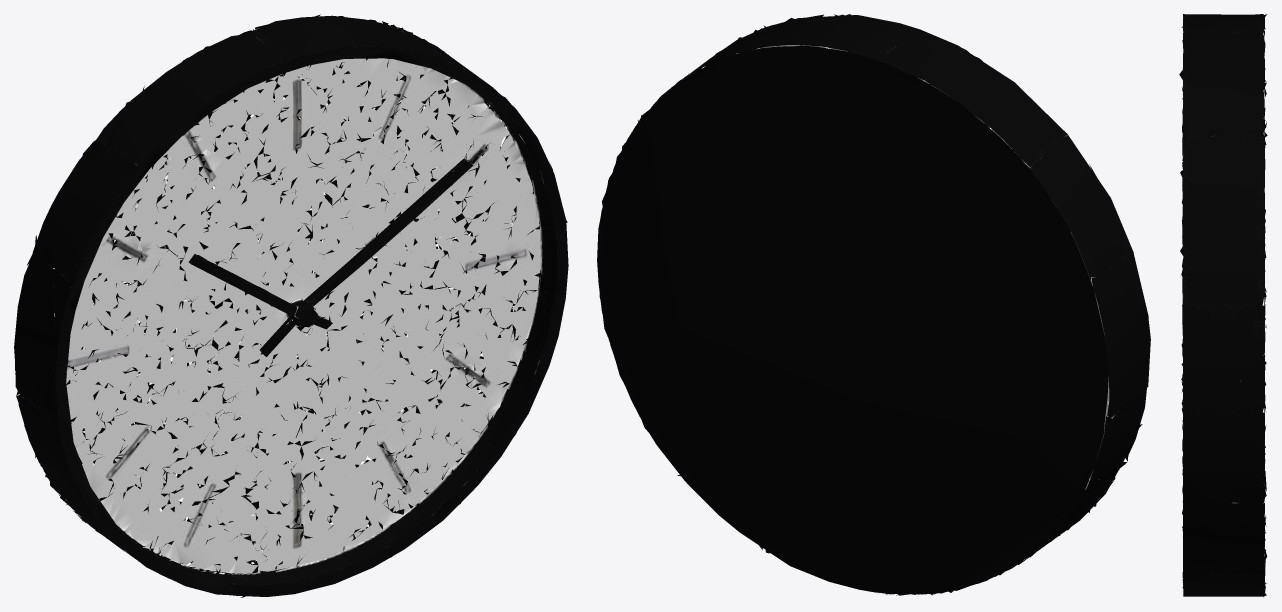
The model's file is wall-clock.glb.
The picture shows the model from 3 angles, left to right: view 1: azimuth 30°, elevation 25°; view 2: azimuth 150°, elevation 25°; view 3: azimuth 270°, elevation 25°; orthographic projection.
Parts seen in each view (by area): view 1: 08-wall-clock; view 2: 08-wall-clock; view 3: 08-wall-clock.
Part boxes in pixels (box(x1,y1,x2,y2)): 08-wall-clock: box(14, 14, 568, 597); 08-wall-clock: box(597, 14, 1150, 595); 08-wall-clock: box(1179, 14, 1267, 596).
Bounding box in the file's own units: 0.4006 × 0.4013 × 0.0608.
Materials: 1 (1 with a texture image).
